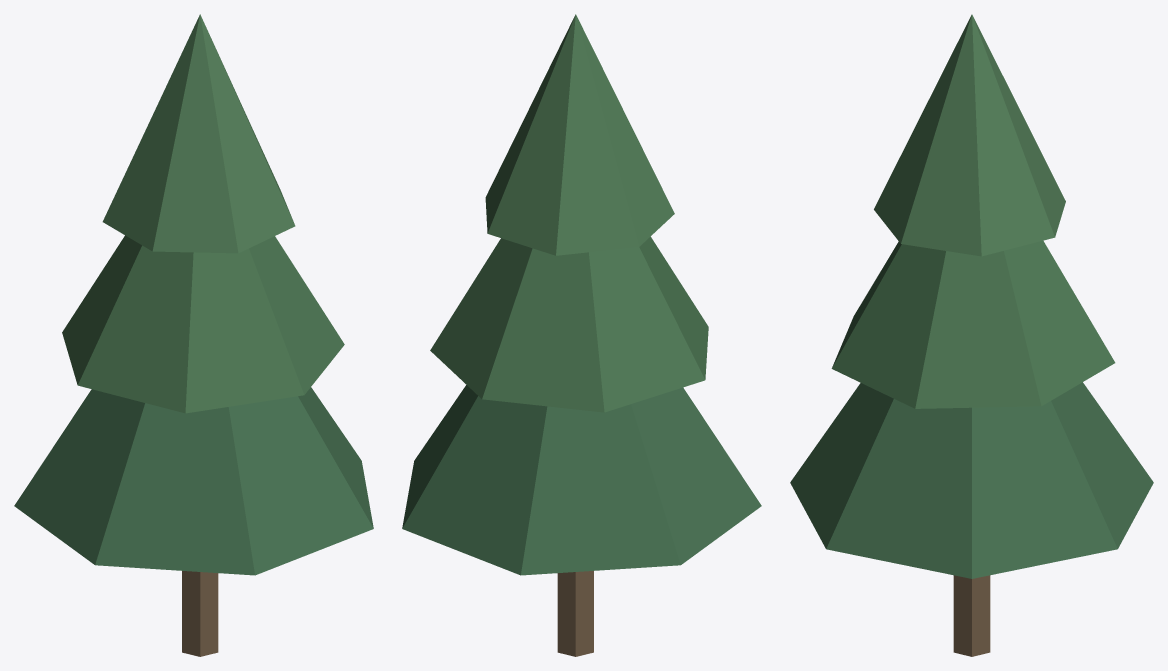
The model's file is pine.glb.
The picture shows the model from 3 angles, left to right: view 1: azimuth 30°, elevation 25°; view 2: azimuth 150°, elevation 25°; view 3: azimuth 270°, elevation 25°; orthographic projection.
Parts seen in each view (by area): view 1: pine; view 2: pine; view 3: pine.
Boxes of the visible parts, bbox=[...] form: pine: bbox=[14, 14, 373, 656]; pine: bbox=[402, 14, 761, 656]; pine: bbox=[790, 14, 1153, 656].
Size of what is drawn, in the model's own units: 3.04 by 6 by 3.12.
